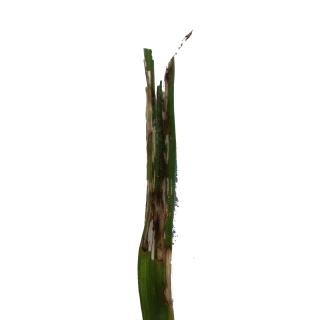Hawar-Daun: (142, 79, 176, 259), (159, 245, 177, 313)
